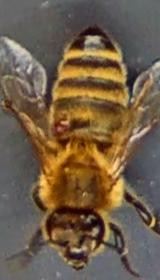varroa_mite: (44, 110, 76, 142)
